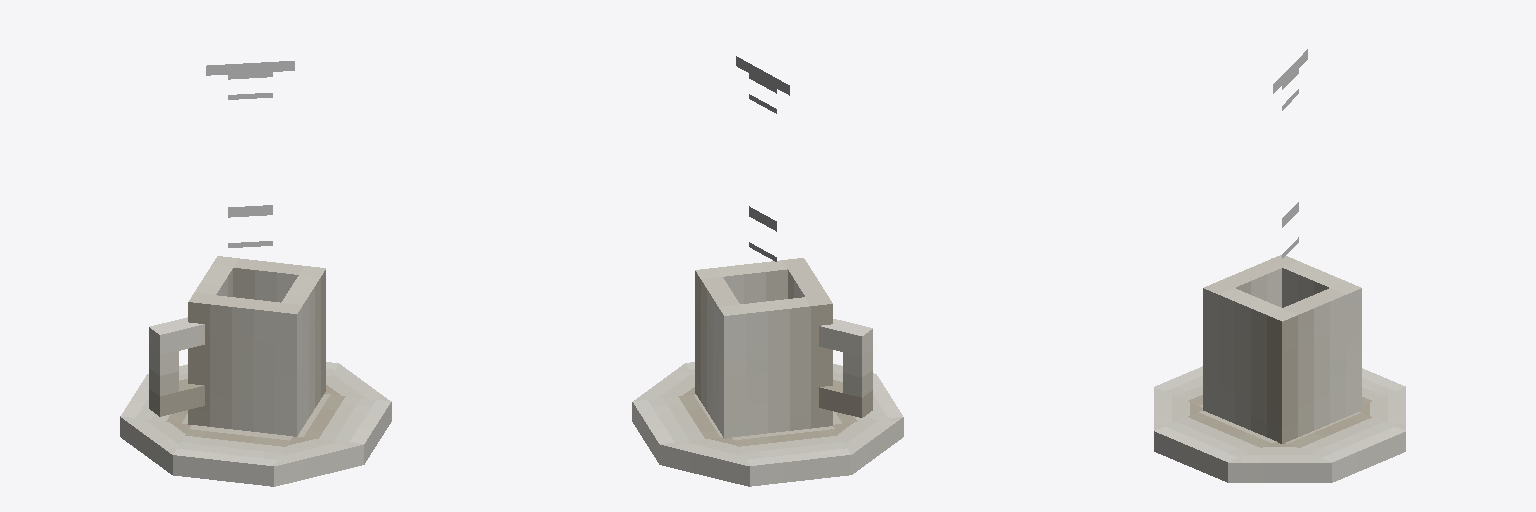
3 views of the same model, side by side, from view 1: azimuth 30°, elevation 25°; view 2: azimuth 150°, elevation 25°; view 3: azimuth 270°, elevation 25° (orthographic).
Visible parts, largest first — view 1: cube; view 2: cube; view 3: cube.
Part boxes in pixels (x1,y1,x2,y2): cube: (120,61,391,486); cube: (632,56,903,486); cube: (1154,49,1405,482).
Bounding box in the file's own units: 0.35 × 0.5938 × 0.35.
3 materials, 3 textured.